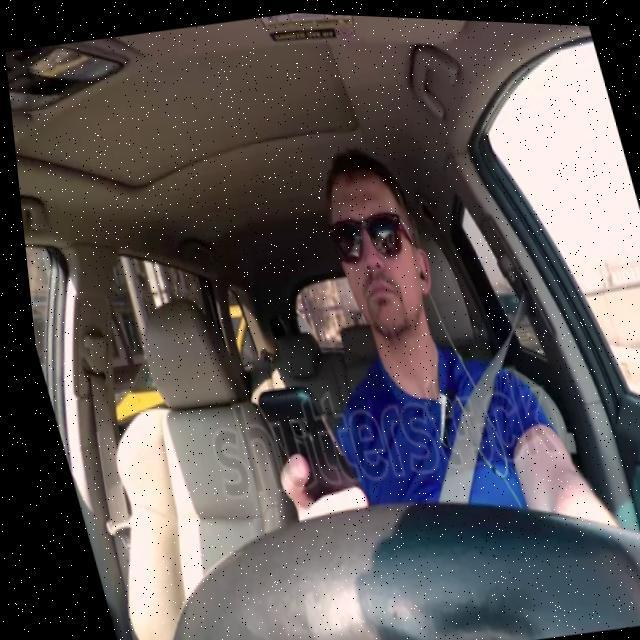PhoneCall: (245, 374, 352, 512)
